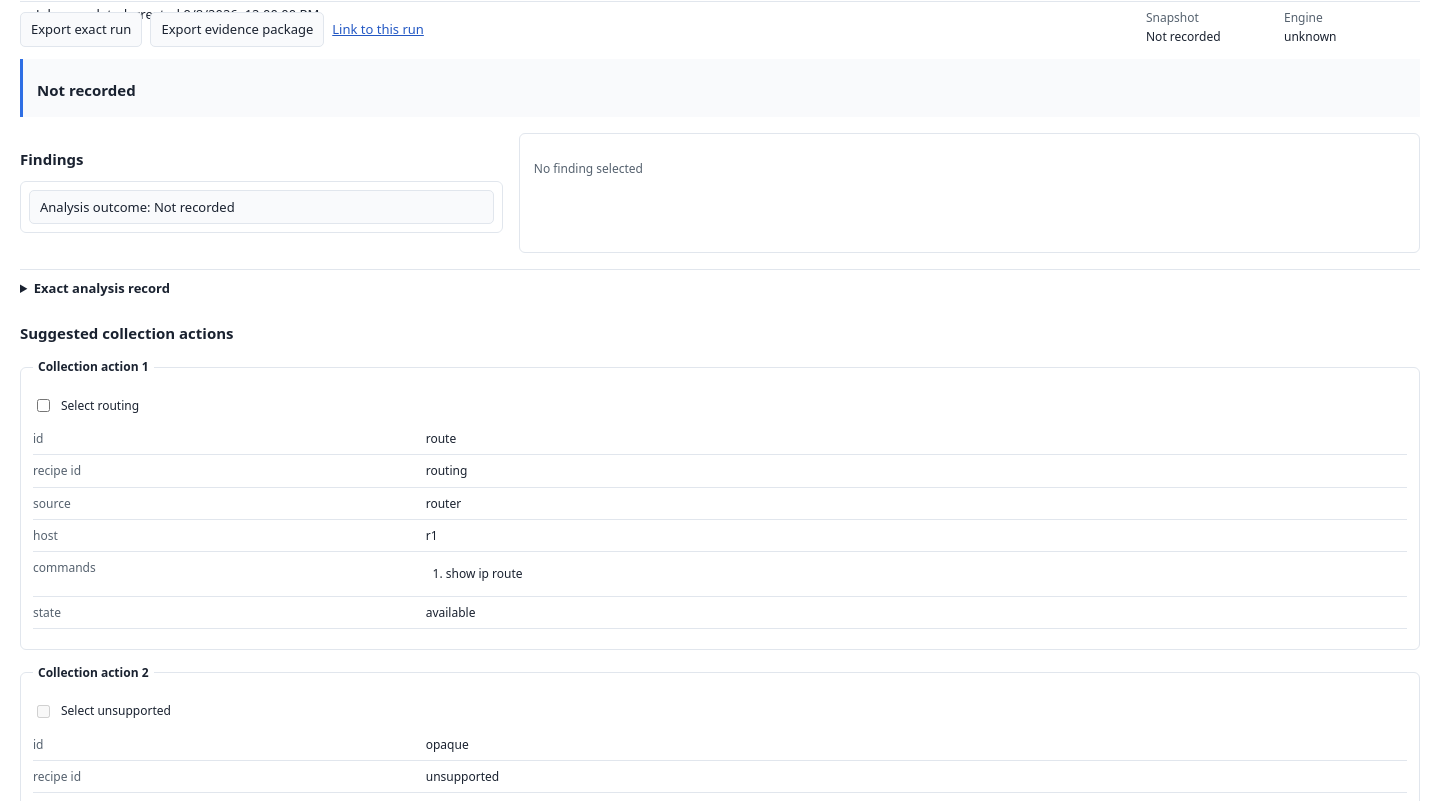
it: Assessments workflow › queues only explicitly selected available evidence recipes
(page scrolled)
Check: the checkbox labelled "Select unsupported" is disabled, box left=37, top=704, right=50, bottom=718
Click the checkbox labelled "Select routing": x=44, y=405 left=37, top=399, right=50, bottom=412
(page scrolled)
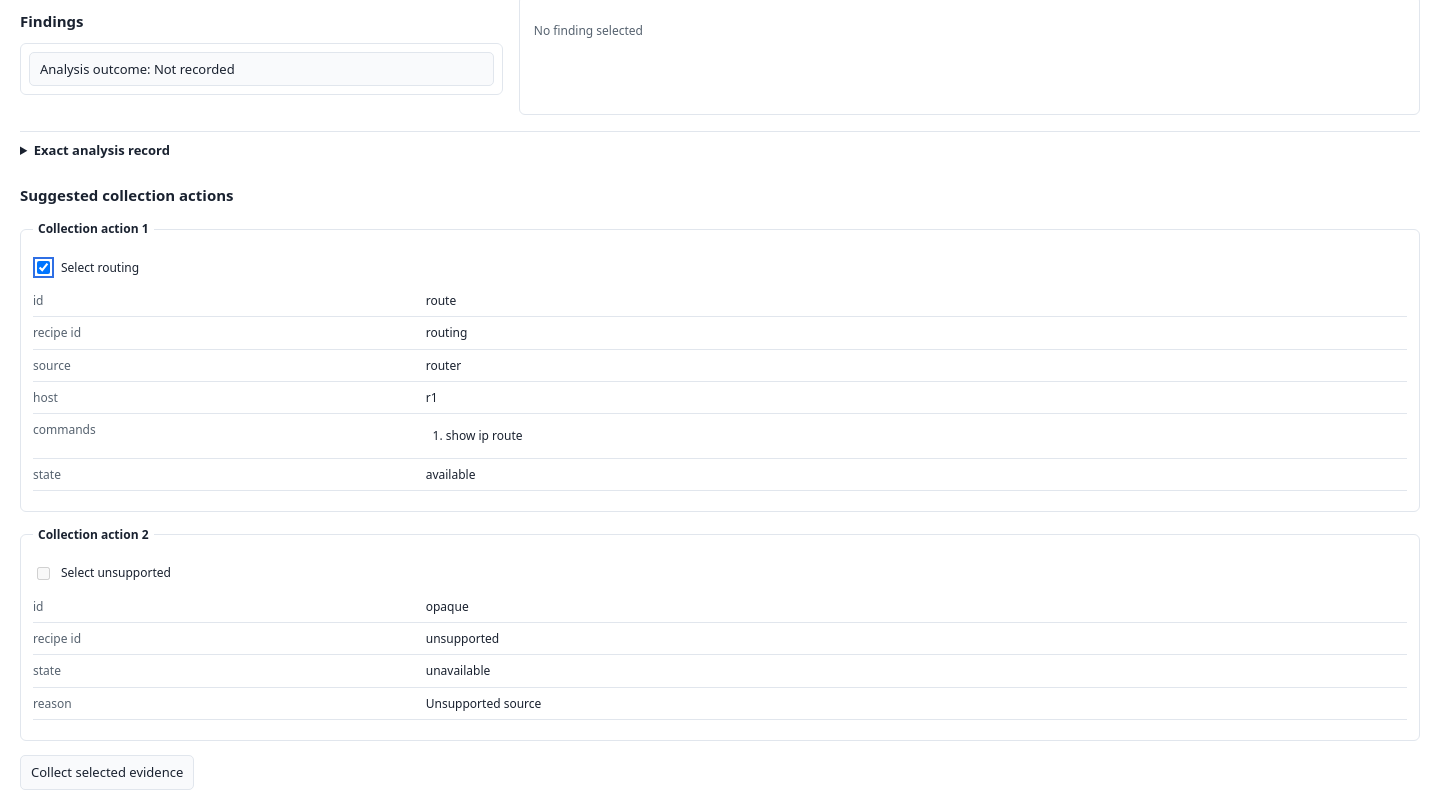
Click the button "Collect selected evidence": x=107, y=772 left=20, top=755, right=194, bottom=790
(page scrolled)
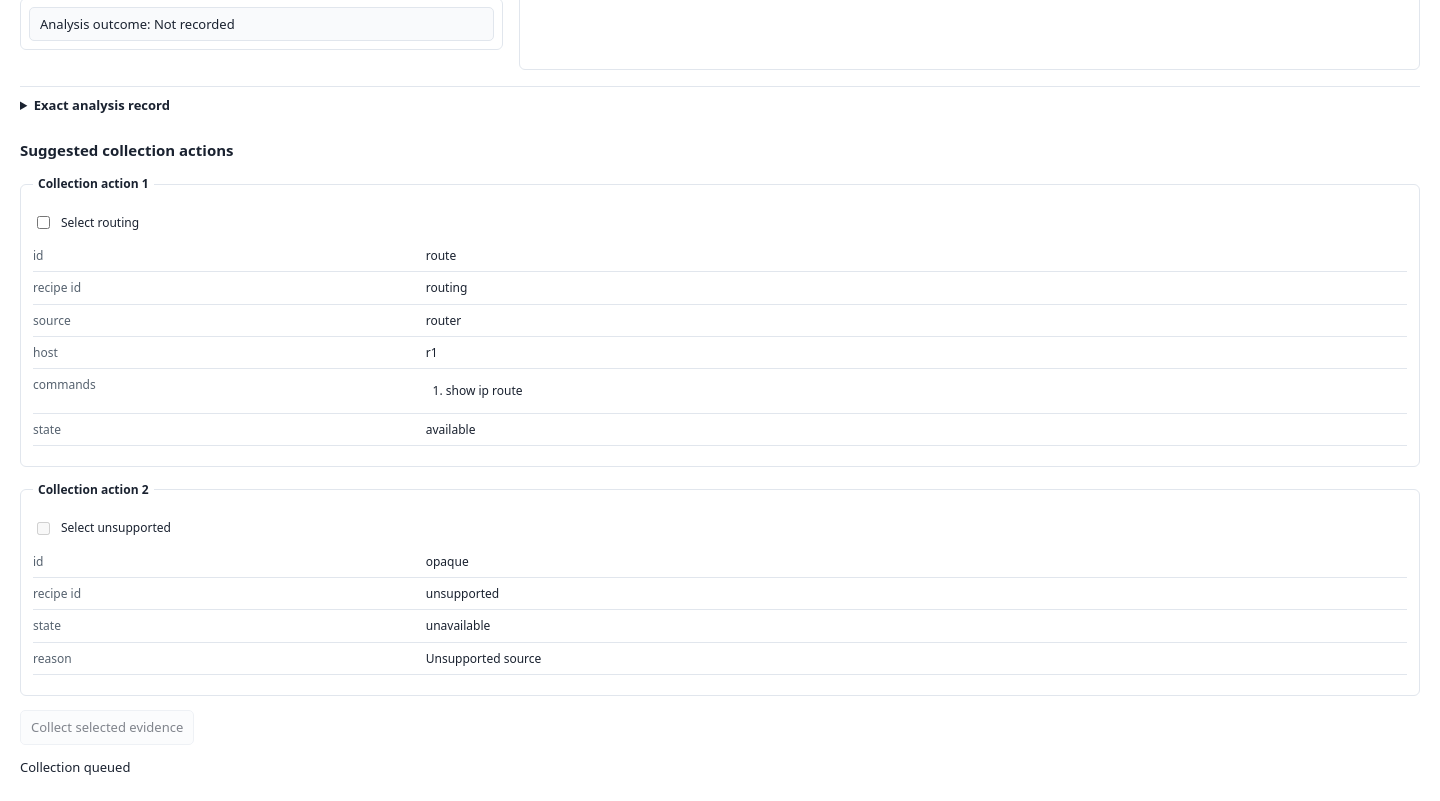
Check: the text "Collection queued" is shown, box left=20, top=758, right=130, bottom=776
